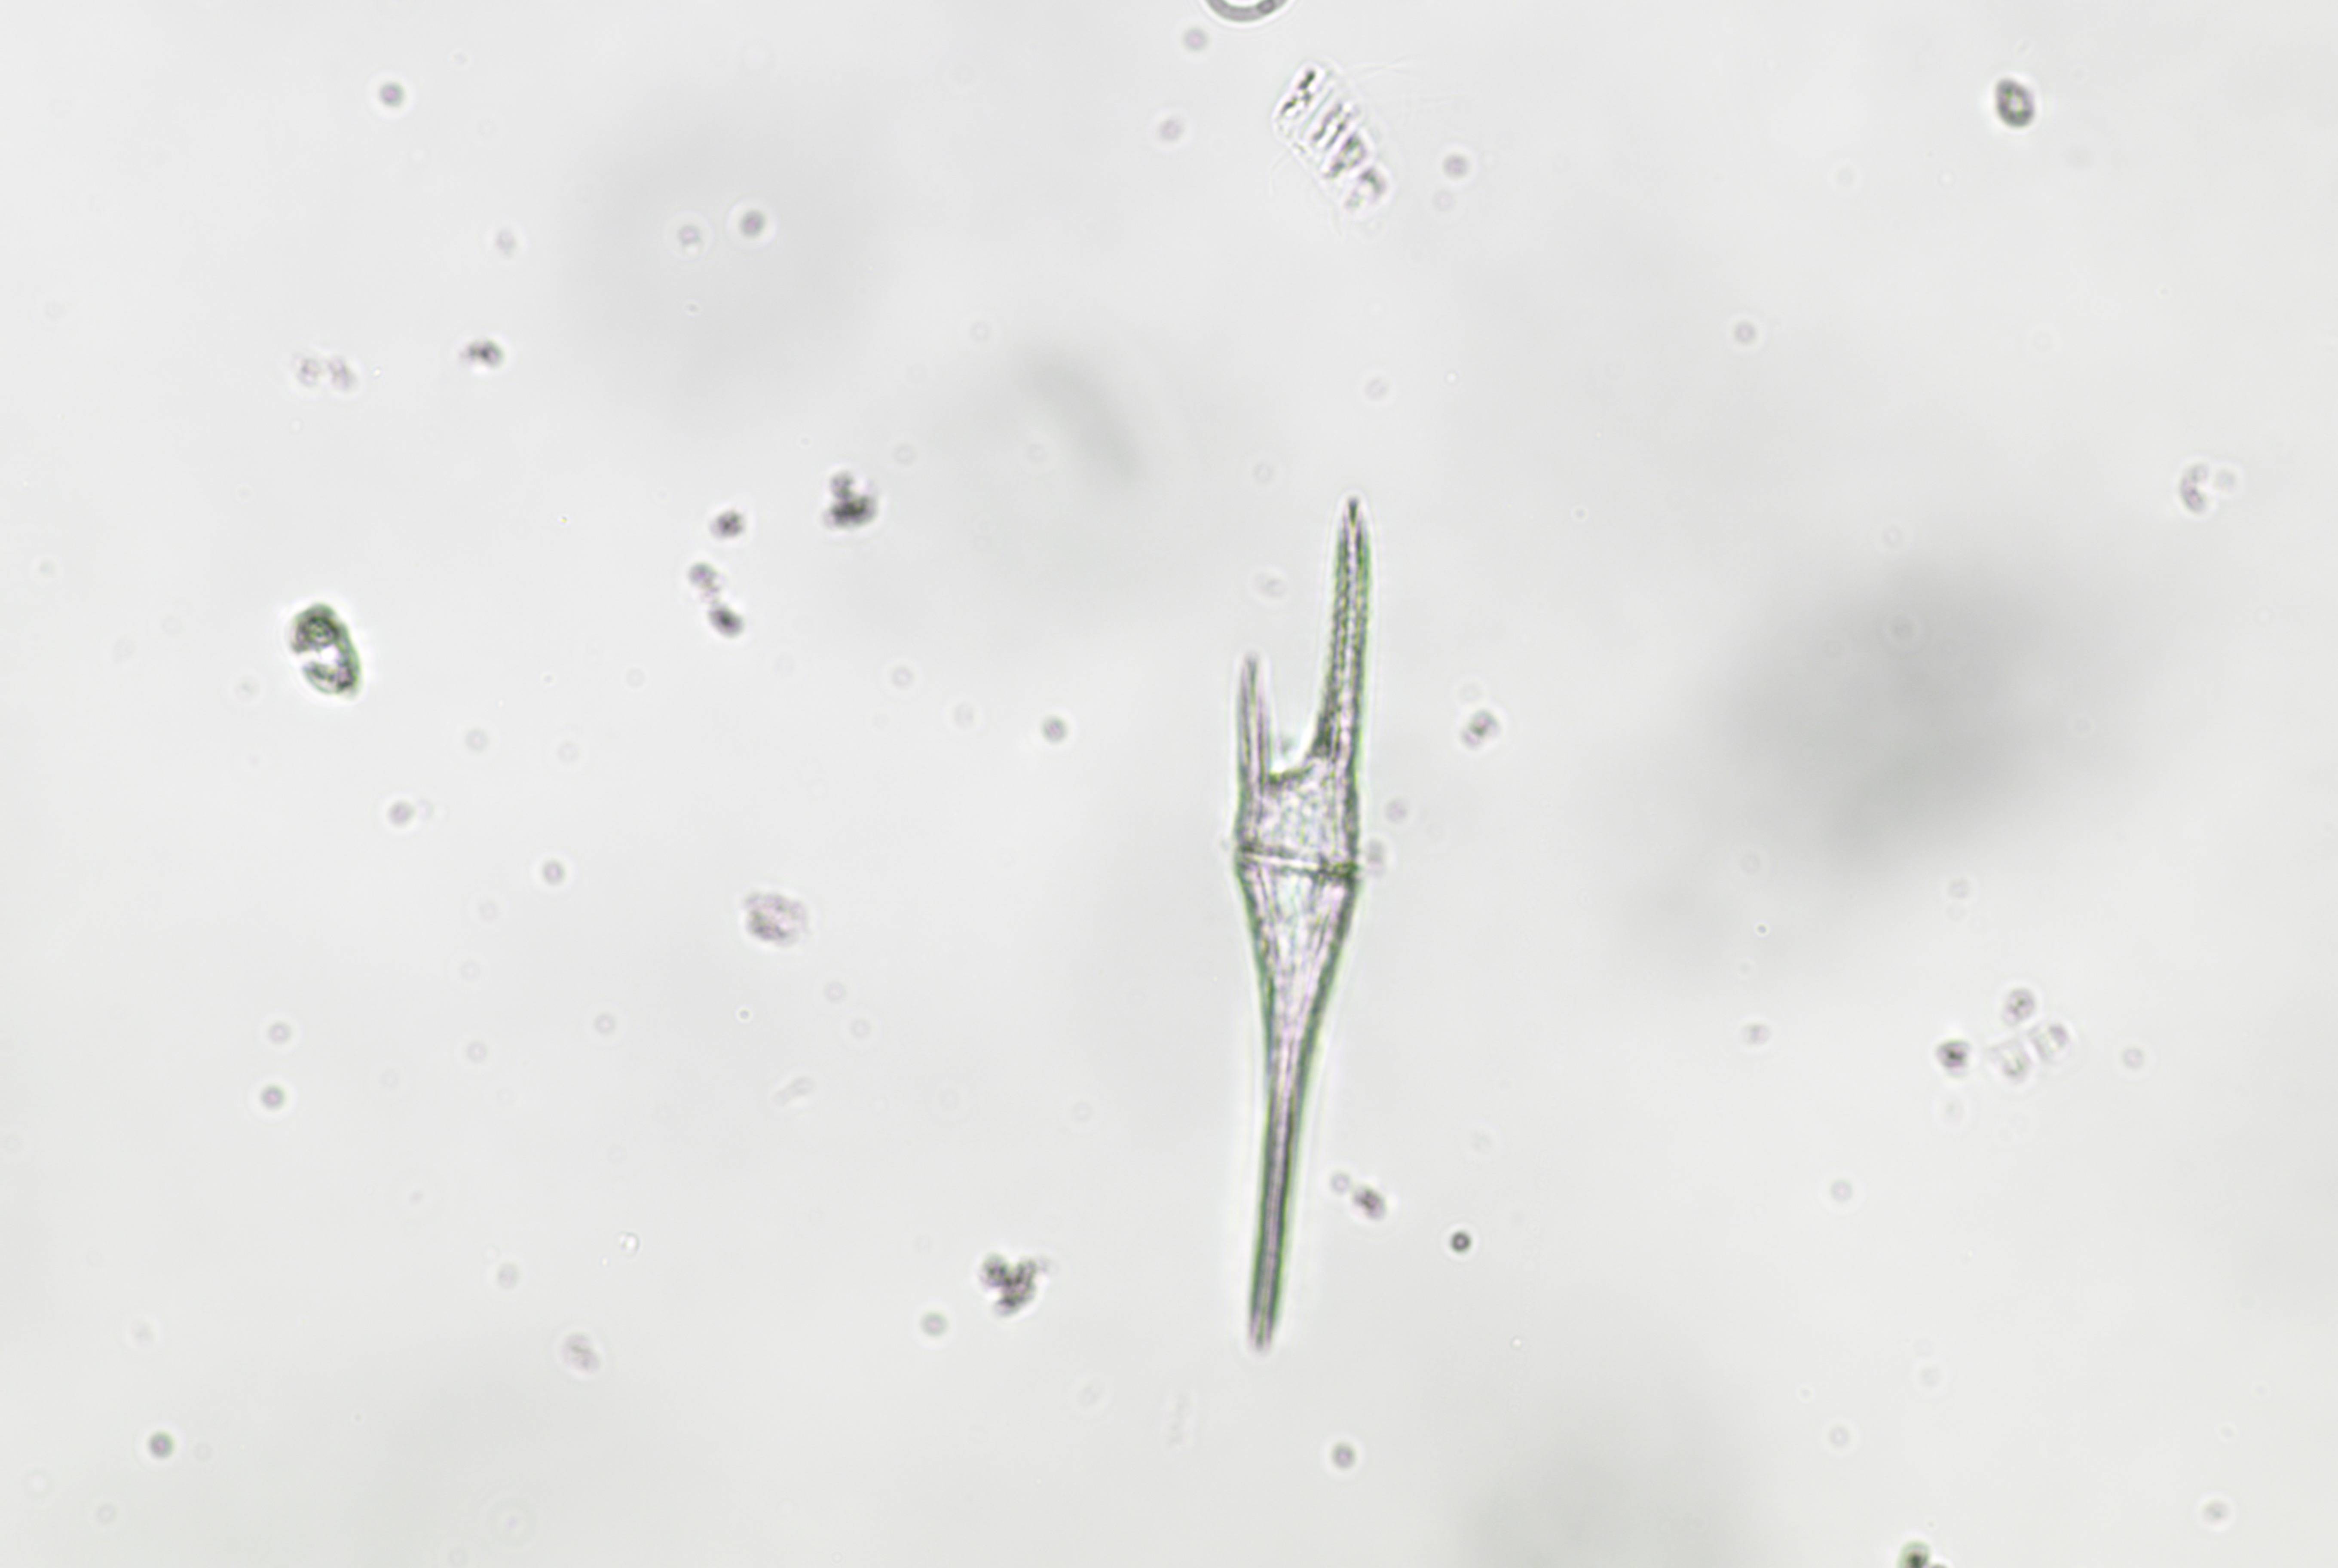ceratium furca: (1152, 472, 1433, 1372)
